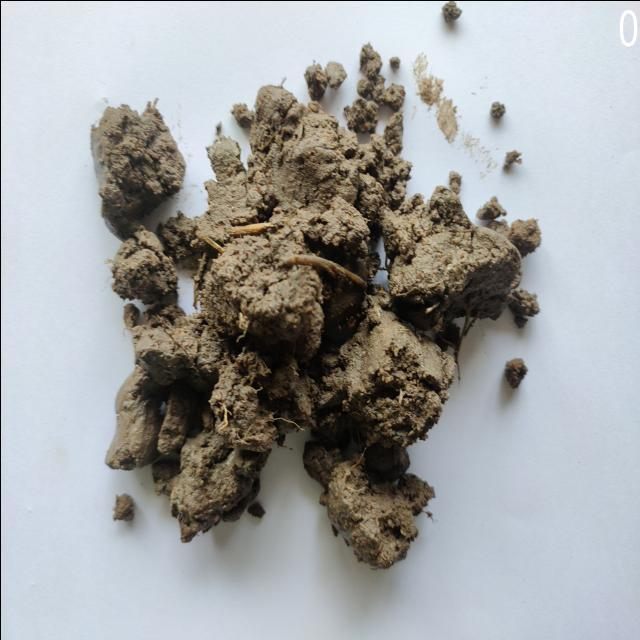soil: (215, 168, 374, 426)
